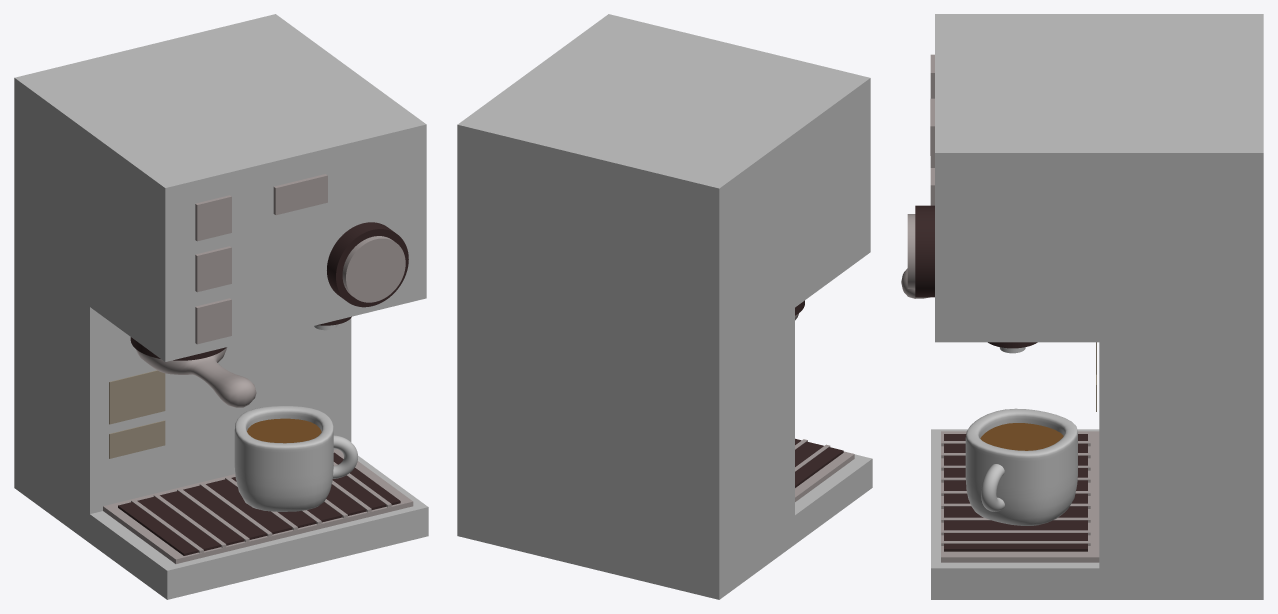
Rendered from coffee-machine1.glb.
3 renders of one model, left to right at view 1: azimuth 30°, elevation 25°; view 2: azimuth 150°, elevation 25°; view 3: azimuth 270°, elevation 25°, orthographic. The views are drawn at different scales.
Parts seen in each view (by area): view 1: body, Cube 8, bodycup, Cube 6, Cylinder 2, Cube 7, Cube 18, Cylinder, Cube 5, coffe, stickers, Cube 4 (+3 smaller); view 2: body, Cube 8, Cube 6; view 3: body, bodycup, Cube 8, Cube 6, Cylinder, coffe, handle, Cylinder 2.
Part boxes in pixels (left/top/right/bottom): body: left=14, top=14, right=428, bottom=599; Cube 8: left=118, top=452, right=400, bottom=555; bodycup: left=234, top=406, right=333, bottom=511; Cube 6: left=103, top=449, right=413, bottom=563; Cylinder 2: left=342, top=236, right=405, bottom=302; Cube 7: left=136, top=347, right=256, bottom=407; Cube 18: left=109, top=370, right=165, bottom=424; Cylinder: left=327, top=222, right=408, bottom=307; Cube 5: left=273, top=174, right=327, bottom=215; coffe: left=247, top=418, right=321, bottom=443; stickers: left=109, top=420, right=165, bottom=458; Cube 4: left=195, top=298, right=231, bottom=344; body: left=457, top=14, right=872, bottom=599; Cube 8: left=795, top=438, right=843, bottom=487; Cube 6: left=795, top=451, right=854, bottom=501; body: left=931, top=14, right=1263, bottom=599; bodycup: left=965, top=408, right=1077, bottom=525; Cube 8: left=944, top=434, right=1087, bottom=551; Cube 6: left=941, top=431, right=1099, bottom=562; Cylinder: left=915, top=205, right=934, bottom=297; coffe: left=980, top=423, right=1063, bottom=450; handle: left=981, top=464, right=1004, bottom=511; Cylinder 2: left=907, top=214, right=915, bottom=288.
Bounding box in the file's own units: 0.8227 × 1.23 × 0.9077.
